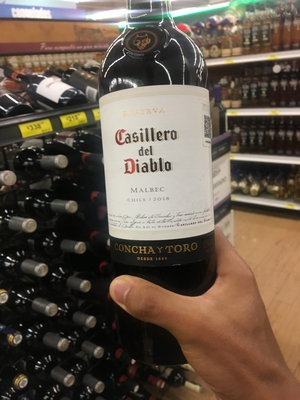casillero del diablo malbec: (90, 6, 230, 331)
